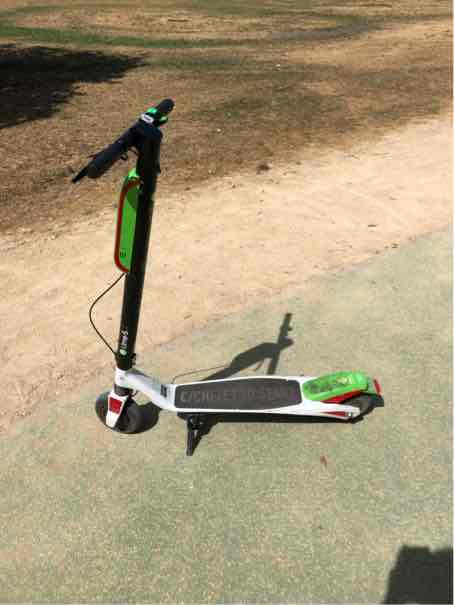scooter: (80, 86, 393, 440)
